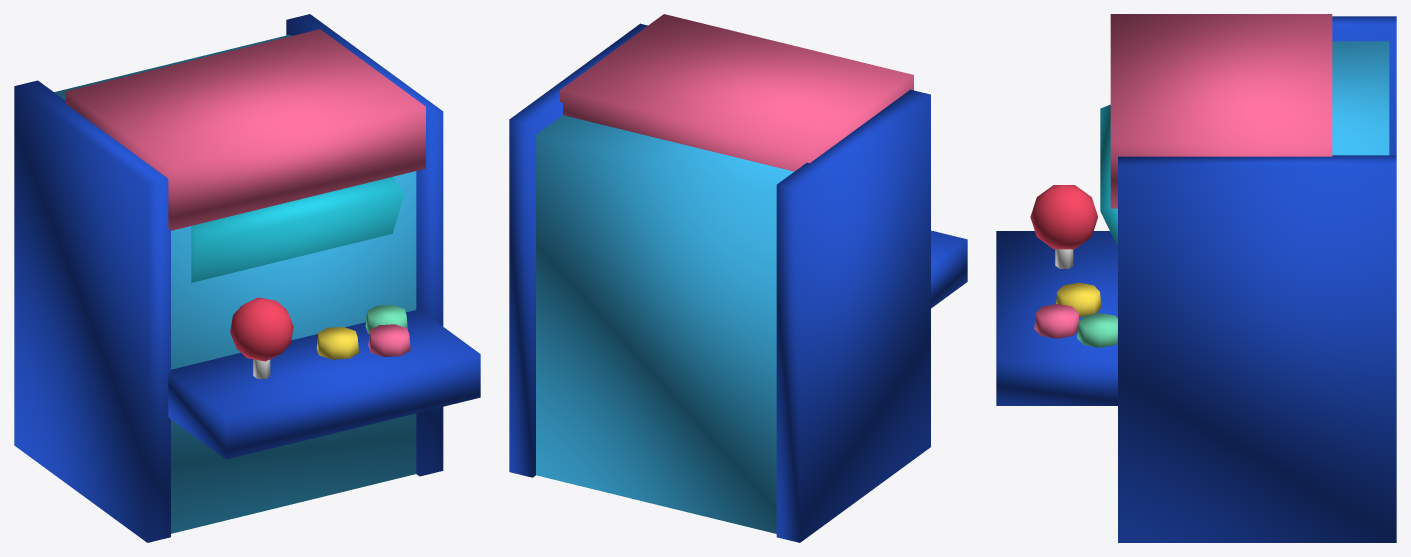
Rendered from w2_05_arcade.glb.
3 views of the same model, side by side, from view 1: azimuth 30°, elevation 25°; view 2: azimuth 150°, elevation 25°; view 3: azimuth 270°, elevation 25° (orthographic). The views are drawn at different scales.
Visible parts, largest first — view 1: W2_05_Arcade; view 2: W2_05_Arcade; view 3: W2_05_Arcade.
Part boxes in pixels (bbox=[...]): W2_05_Arcade: bbox=[14, 14, 480, 542]; W2_05_Arcade: bbox=[509, 14, 967, 542]; W2_05_Arcade: bbox=[996, 14, 1396, 542].
Size of the model in its own units: 1 by 1.2 by 1.12.
Materials: 1 (1 with a texture image).
